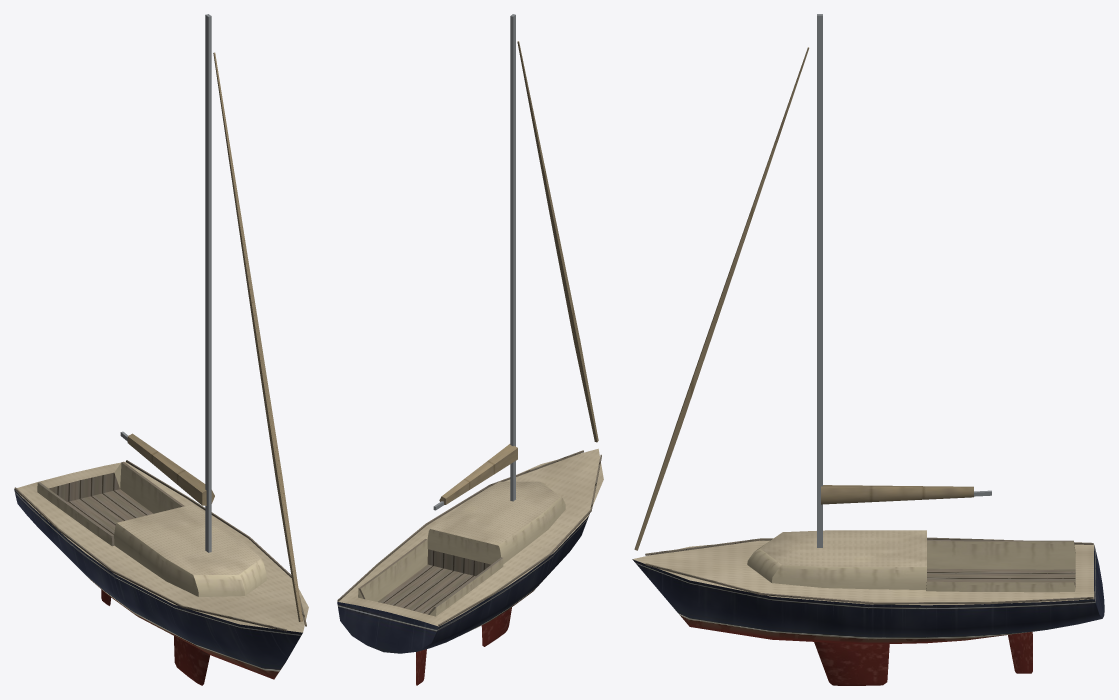
Rendered from sailYacht-b-lod2.glb.
3 views of the same model, side by side, from view 1: azimuth 30°, elevation 25°; view 2: azimuth 150°, elevation 25°; view 3: azimuth 270°, elevation 25° (orthographic). The views are drawn at different scales.
Visible parts, largest first — view 1: Hull, Superstructure, Rig; view 2: Hull, Superstructure, Rig; view 3: Hull, Superstructure, Rig.
Part boxes in pixels (bbox=[...]): Hull: bbox=[14, 460, 308, 685]; Superstructure: bbox=[114, 504, 266, 596]; Rig: bbox=[120, 14, 302, 621]; Hull: bbox=[337, 448, 603, 685]; Superstructure: bbox=[427, 481, 565, 564]; Rig: bbox=[433, 14, 598, 510]; Hull: bbox=[632, 537, 1104, 685]; Superstructure: bbox=[747, 530, 926, 589]; Rig: bbox=[634, 14, 991, 550].
Bounding box in the file's own units: 3.53 × 16.47 × 10.52.
Materials: 1 (1 with a texture image).
